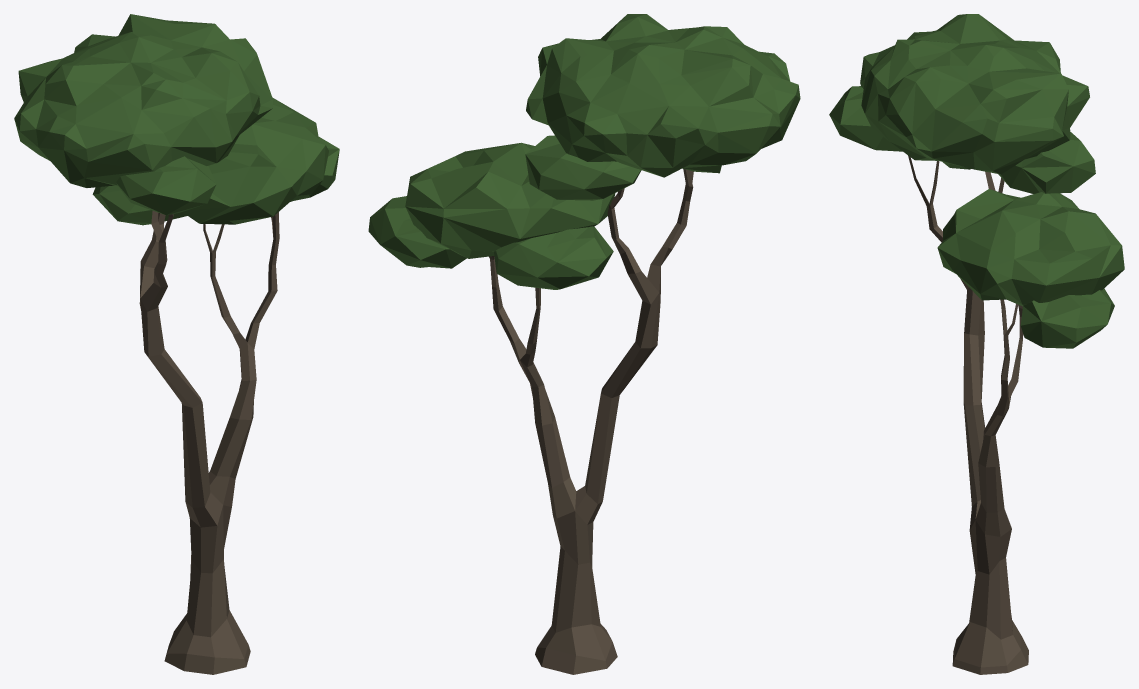
File: SM_Env_Tree_Large_01.glb
3 views of the same model, side by side, from view 1: azimuth 30°, elevation 25°; view 2: azimuth 150°, elevation 25°; view 3: azimuth 270°, elevation 25° (orthographic). The views are drawn at different scales.
Visible parts, largest first — view 1: SM_Env_Tree_Large_01; view 2: SM_Env_Tree_Large_01; view 3: SM_Env_Tree_Large_01.
Boxes of the visible parts, box(x1,y1,x2,y2) form: SM_Env_Tree_Large_01: box(14, 14, 339, 674); SM_Env_Tree_Large_01: box(368, 14, 800, 674); SM_Env_Tree_Large_01: box(829, 14, 1124, 674).
Bounding box in the file's own units: 0.1453 × 0.244 × 0.1124.
